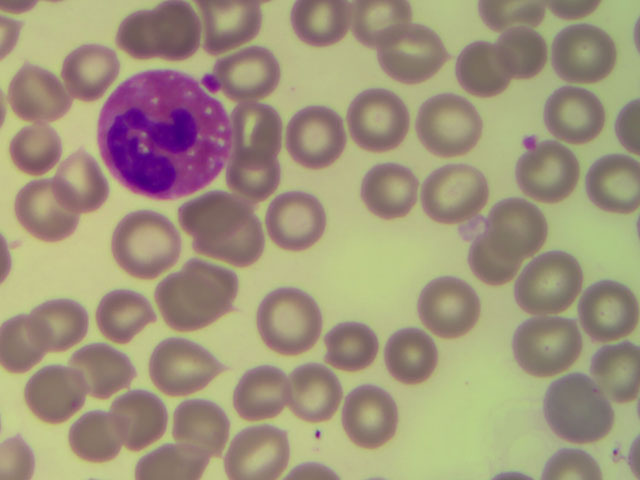Platelets: (516, 134, 539, 150), (202, 76, 217, 89)
RBC: (141, 418, 209, 480), (235, 418, 303, 480), (55, 39, 123, 100), (5, 118, 73, 179), (45, 153, 113, 214), (18, 176, 86, 237), (118, 217, 186, 278), (170, 182, 238, 243), (200, 215, 268, 276), (217, 149, 285, 210), (222, 100, 290, 161), (222, 47, 290, 108), (139, 2, 207, 63), (109, 1, 177, 62), (276, 107, 344, 168), (282, 2, 350, 63), (363, 26, 431, 87), (436, 39, 504, 100), (475, 30, 543, 91), (549, 20, 617, 81), (547, 90, 615, 151), (519, 148, 587, 209), (483, 187, 551, 248), (456, 232, 524, 293), (424, 160, 492, 221), (356, 166, 424, 227), (345, 88, 413, 149), (428, 91, 496, 152), (266, 187, 334, 248), (257, 290, 325, 351), (319, 314, 387, 375), (360, 325, 428, 386), (411, 280, 479, 341), (338, 386, 406, 447), (265, 353, 333, 414), (231, 357, 299, 418), (151, 328, 219, 389), (100, 289, 168, 350), (158, 270, 226, 331), (171, 253, 239, 314), (35, 296, 103, 357), (2, 300, 70, 361), (23, 355, 91, 416), (63, 340, 131, 401), (105, 379, 173, 440), (163, 391, 231, 452), (60, 403, 128, 464), (543, 380, 611, 441), (572, 338, 640, 399), (510, 317, 578, 378), (570, 281, 638, 342), (503, 258, 571, 319), (572, 152, 640, 213), (1, 61, 68, 122), (186, 1, 254, 61)
WBC: (98, 82, 236, 200)
